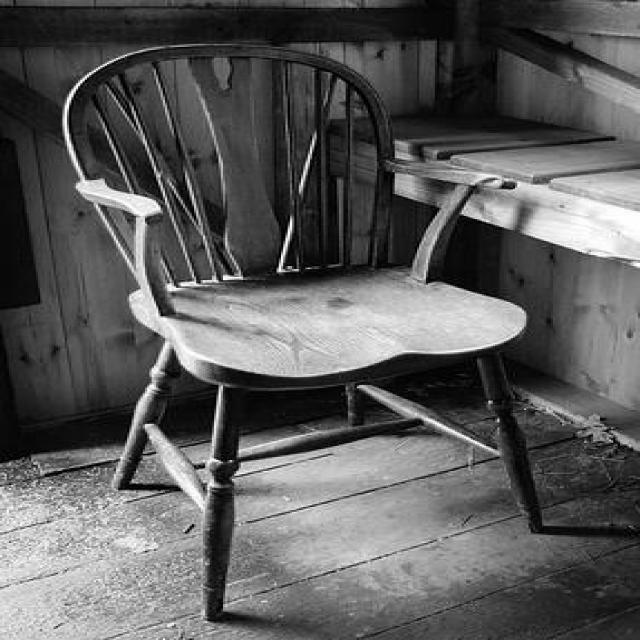chair: (47, 44, 546, 620)
